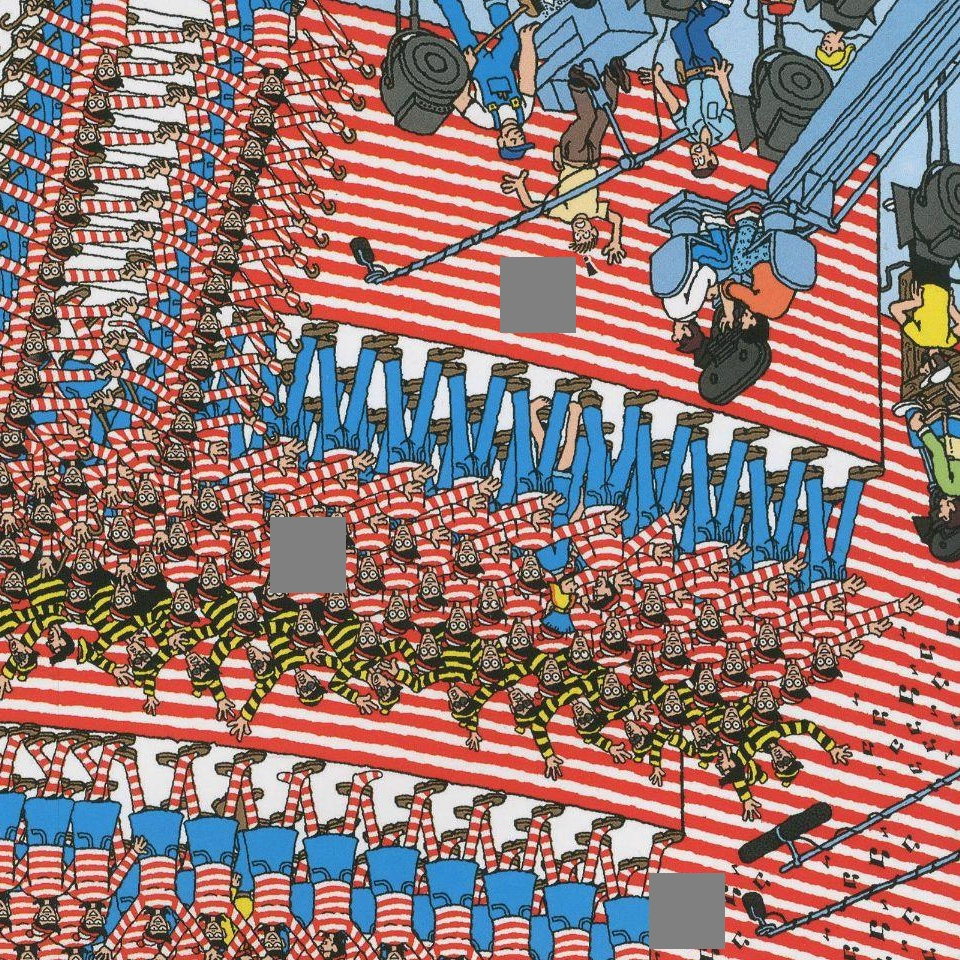waldo: (807, 581, 860, 684), (260, 444, 311, 540), (190, 430, 237, 528), (450, 482, 494, 583), (635, 530, 680, 628), (693, 550, 739, 644), (515, 503, 558, 595), (386, 470, 427, 566), (89, 0, 129, 93), (753, 562, 789, 665), (323, 466, 364, 551), (288, 513, 333, 586), (319, 550, 361, 627), (413, 540, 458, 611), (659, 597, 702, 671), (131, 430, 164, 520), (776, 635, 816, 708), (101, 483, 138, 556), (717, 619, 755, 688), (226, 507, 261, 580), (227, 574, 266, 639), (164, 564, 201, 631), (383, 565, 416, 639), (411, 606, 447, 673), (564, 611, 601, 676), (627, 630, 665, 692), (747, 667, 786, 727), (656, 671, 695, 731), (289, 584, 324, 650), (350, 597, 386, 661), (353, 528, 385, 598), (505, 596, 536, 667), (444, 578, 475, 649), (196, 535, 228, 603), (106, 554, 137, 623), (715, 690, 751, 747), (594, 659, 632, 712), (691, 649, 724, 710), (474, 629, 508, 686), (132, 528, 161, 594), (535, 641, 566, 698), (162, 501, 190, 564), (472, 583, 506, 628), (597, 617, 630, 658), (59, 155, 91, 196), (26, 291, 56, 332), (47, 194, 80, 231), (68, 545, 95, 589), (1, 396, 35, 429), (46, 227, 79, 260), (79, 91, 111, 125), (18, 333, 47, 369), (33, 261, 64, 294), (71, 124, 98, 157), (0, 429, 24, 462), (62, 589, 89, 616), (18, 366, 40, 398), (0, 462, 13, 502)
